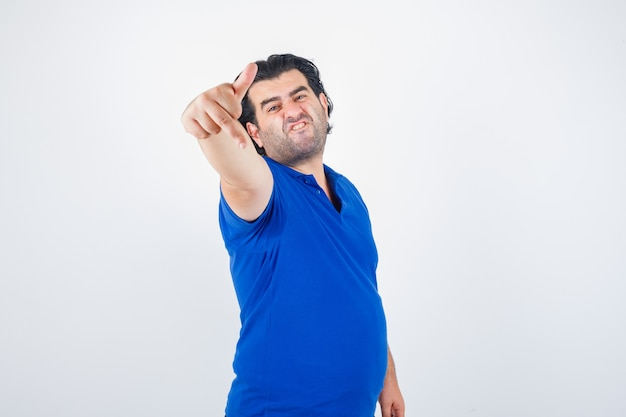insulting_gesture: (180, 61, 260, 151)
